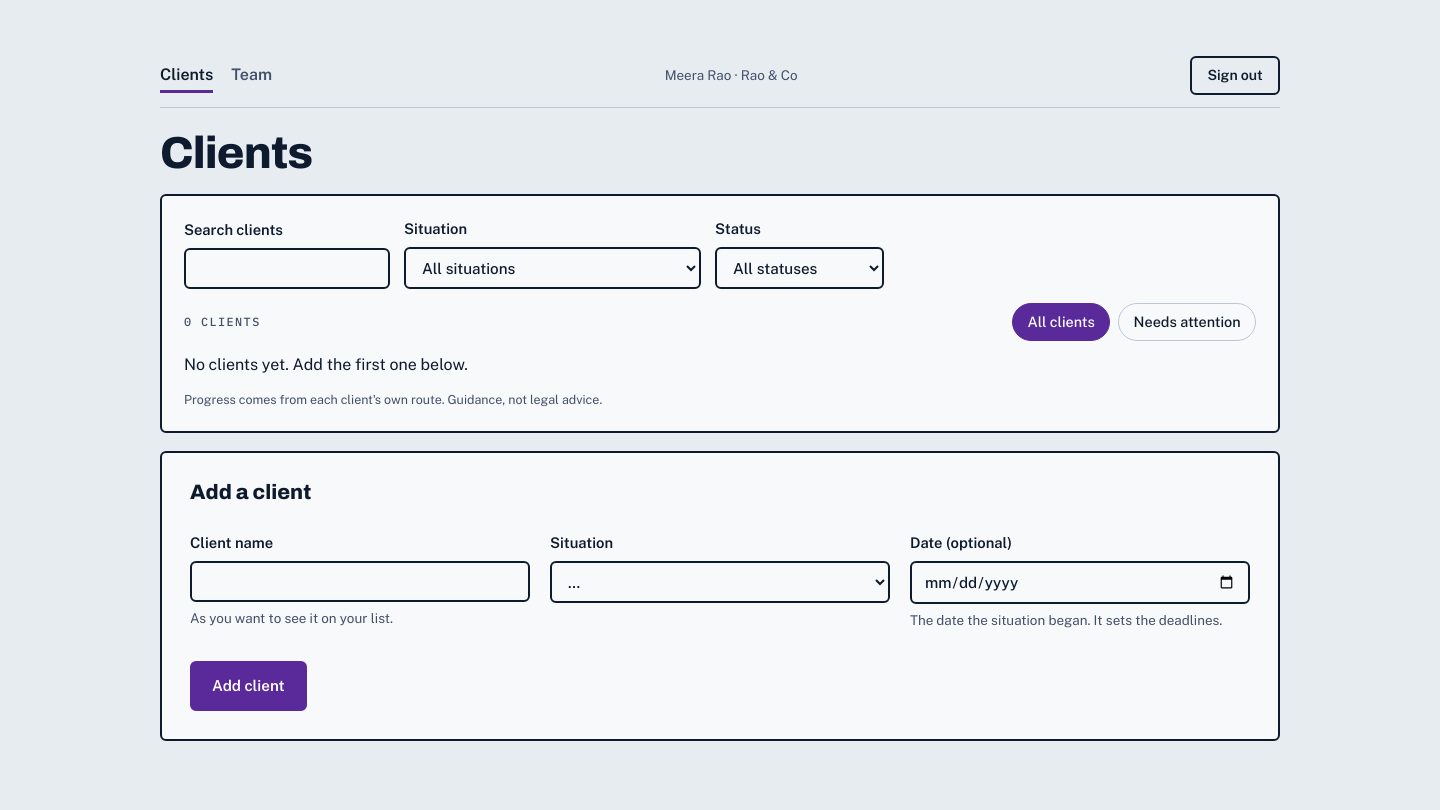
Test: Pro: the dashboard › explains an empty list, and a list emptied by filters
This screenshot has width=1440, height=810.
Expected: the text "No clients yet. Add the first one below." is shown, [184,355,468,374]
Click the button "Needs attention": (1187, 322) [1118,303,1256,341]
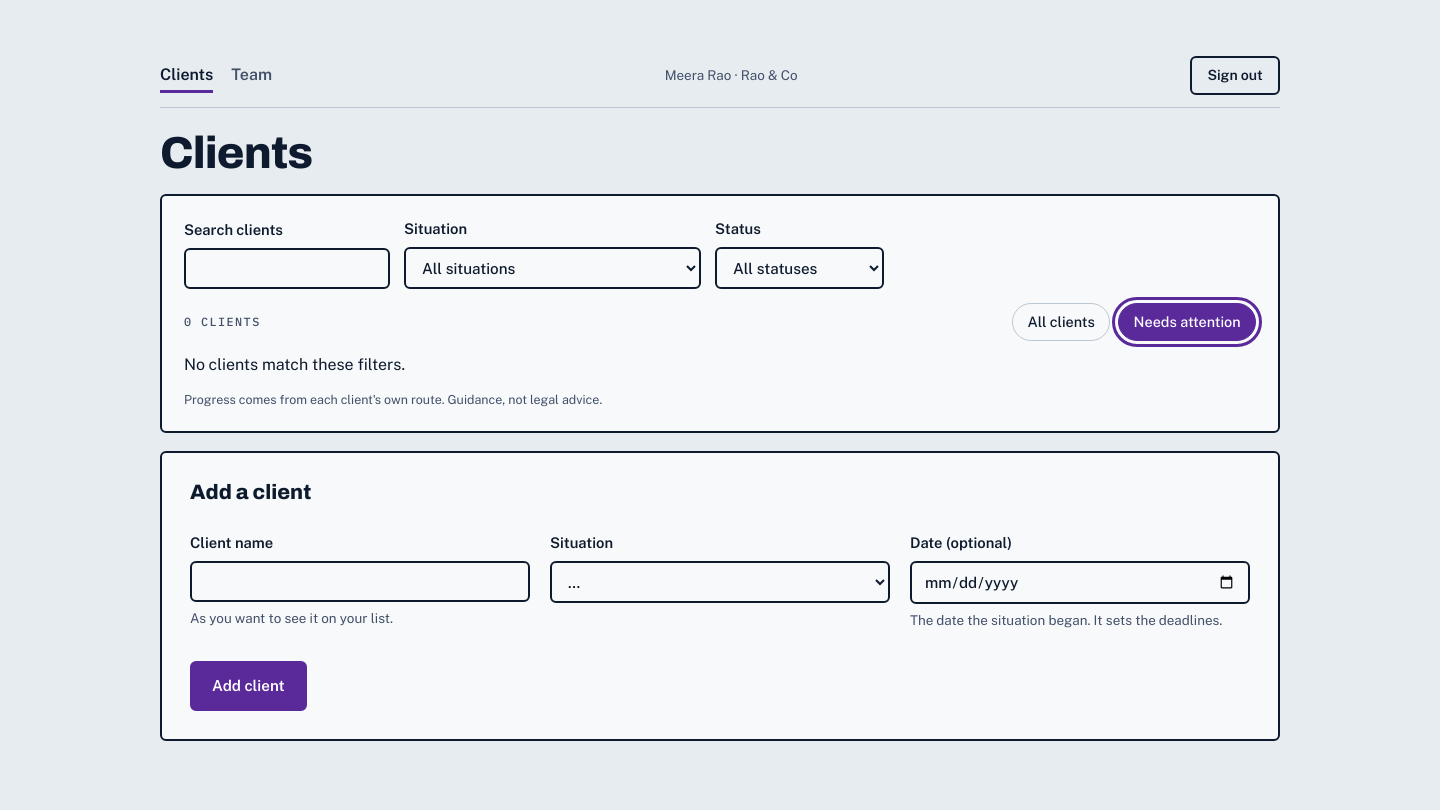
Now the text "No clients match these filters." is shown, box [184,355,405,374]
